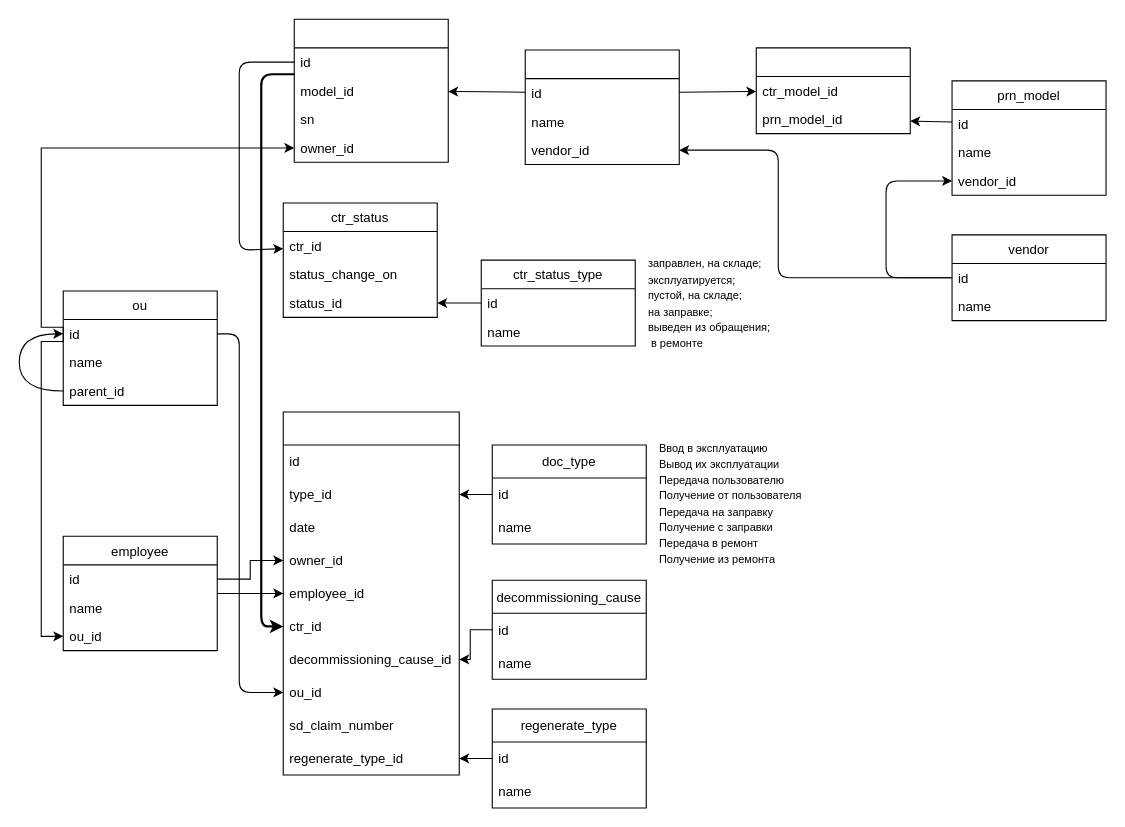
This 1125x827 diagram has some shape labels left out. Here are the shapes that lost their labels. From the top down, the box of each, then its label:
(293, 18, 448, 162): ctr
(524, 49, 679, 164): ctr_model
(755, 47, 910, 134): ctr_supp_printer
(282, 411, 459, 775): doc
